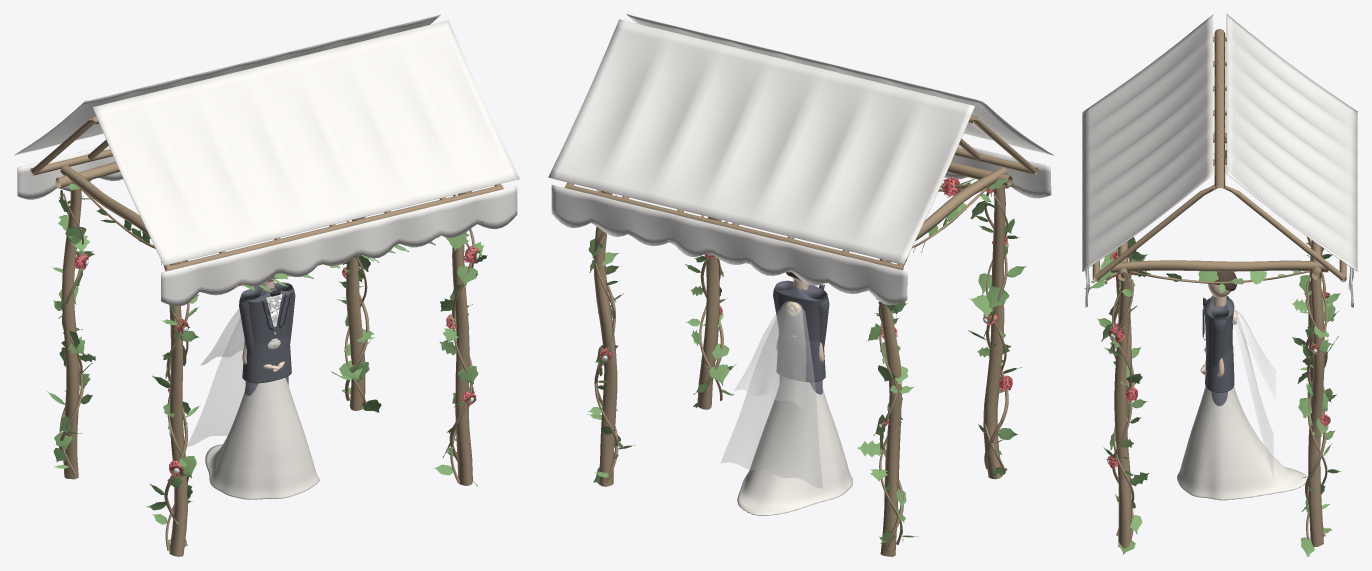
File: procession.glb
3 views of the same model, side by side, from view 1: azimuth 30°, elevation 25°; view 2: azimuth 150°, elevation 25°; view 3: azimuth 270°, elevation 25° (orthographic). The views are drawn at different scales.
Visible parts, largest first — view 1: hall_roof_fabric, bride_dress, hall_leaves, bride_veil, hall_vine_all, hall_beam_roof, hall_post_2, groom_torso, hall_post_1, hall_post_0, hall_post_3, hall_beam_y_l (+2 smaller); view 2: hall_roof_fabric, bride_veil, bride_dress, hall_leaves, hall_vine_all, groom_torso, hall_post_0, hall_beam_roof, hall_post_3, hall_post_2, hall_post_1, hall_beam_y_l (+2 smaller); view 3: hall_roof_fabric, bride_dress, hall_leaves, hall_beam_roof, hall_post_1, hall_post_3, hall_vine_all, bride_veil, hall_beam_y_r, groom_torso, groom_arm_R, petal_L0_hall_all (+1 smaller).
Boxes of the visible parts, x1=… form: hall_roof_fabric: x1=14, y1=14, x2=519, y2=306; bride_dress: x1=205, y1=378, x2=319, y2=499; hall_leaves: x1=47, y1=183, x2=487, y2=552; bride_veil: x1=187, y1=309, x2=245, y2=446; hall_vine_all: x1=59, y1=188, x2=474, y2=550; hall_beam_roof: x1=30, y1=116, x2=503, y2=271; hall_post_2: x1=61, y1=184, x2=81, y2=479; groom_torso: x1=242, y1=286, x2=293, y2=383; hall_post_1: x1=452, y1=192, x2=472, y2=485; hall_post_0: x1=169, y1=262, x2=187, y2=556; hall_post_3: x1=346, y1=217, x2=365, y2=410; hall_beam_y_l: x1=60, y1=165, x2=187, y2=263; hall_roof_fabric: x1=548, y1=14, x2=1053, y2=305; bride_veil: x1=721, y1=301, x2=822, y2=488; bride_dress: x1=737, y1=377, x2=852, y2=515; hall_leaves: x1=587, y1=173, x2=1026, y2=543; hall_vine_all: x1=594, y1=183, x2=1008, y2=551; groom_torso: x1=774, y1=284, x2=827, y2=382; hall_post_0: x1=983, y1=185, x2=1005, y2=479; hall_beam_roof: x1=564, y1=115, x2=1037, y2=270; hall_post_3: x1=594, y1=191, x2=617, y2=486; hall_post_2: x1=879, y1=259, x2=901, y2=556; hall_post_1: x1=697, y1=217, x2=719, y2=409; hall_beam_y_l: x1=882, y1=167, x2=1007, y2=261; hall_roof_fabric: x1=1082, y1=14, x2=1357, y2=307; bride_dress: x1=1177, y1=386, x2=1307, y2=500; hall_leaves: x1=1084, y1=150, x2=1341, y2=556; hall_beam_roof: x1=1092, y1=28, x2=1346, y2=282; hall_post_1: x1=1114, y1=271, x2=1131, y2=548; hall_post_3: x1=1308, y1=271, x2=1324, y2=546; hall_vine_all: x1=1105, y1=159, x2=1327, y2=540; bride_veil: x1=1232, y1=309, x2=1275, y2=478; hall_beam_y_r: x1=1111, y1=260, x2=1328, y2=272; groom_torso: x1=1204, y1=298, x2=1234, y2=392; groom_arm_R: x1=1211, y1=306, x2=1229, y2=366; petal_L0_hall_all: x1=1107, y1=251, x2=1329, y2=468.
Bounding box in the file's own units: 3.12 × 3.57 × 2.28.
